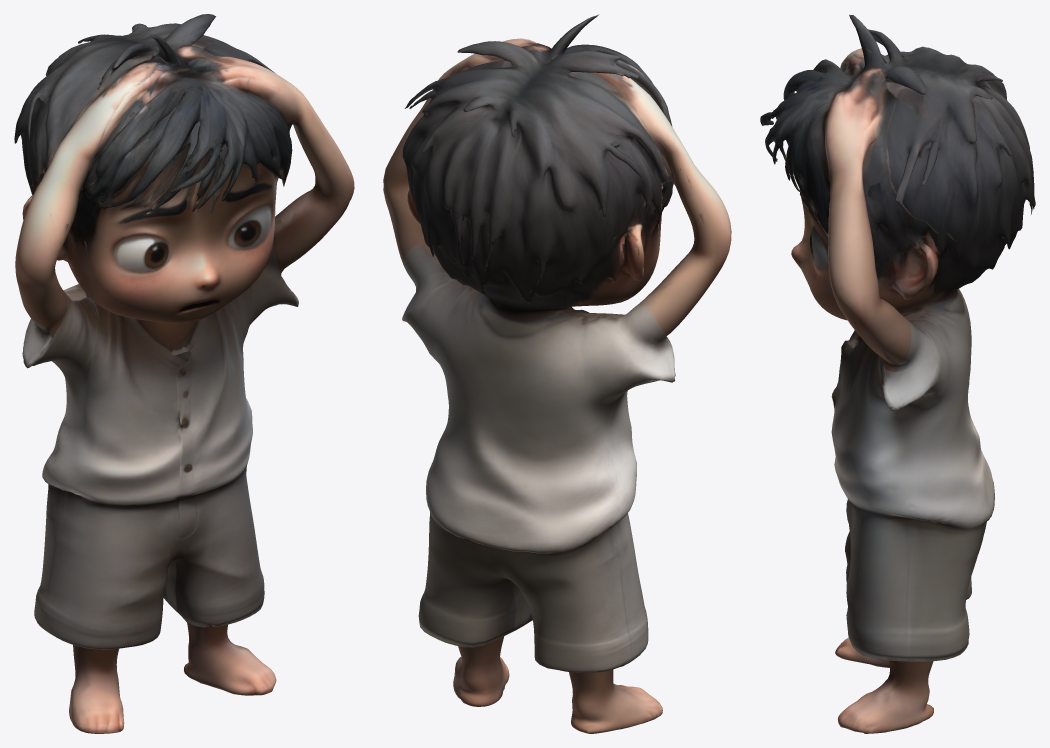
Rendered from Create_a_3D_model_of__0922201548_refine.obj.
3 renders of one model, left to right at view 1: azimuth 30°, elevation 25°; view 2: azimuth 150°, elevation 25°; view 3: azimuth 270°, elevation 25°, orthographic. The views are drawn at different scales.
Visible parts, largest first — view 1: Mesh1_Mesh1.047; view 2: Mesh1_Mesh1.047; view 3: Mesh1_Mesh1.047.
Boxes of the visible parts, x1,y1,x2,y2 form: Mesh1_Mesh1.047: (14,14,354,733); Mesh1_Mesh1.047: (383,14,731,733); Mesh1_Mesh1.047: (760,14,1035,733).
Bounding box in the file's own units: 1.03 × 1.99 × 0.7537.
1 material, 1 textured.
